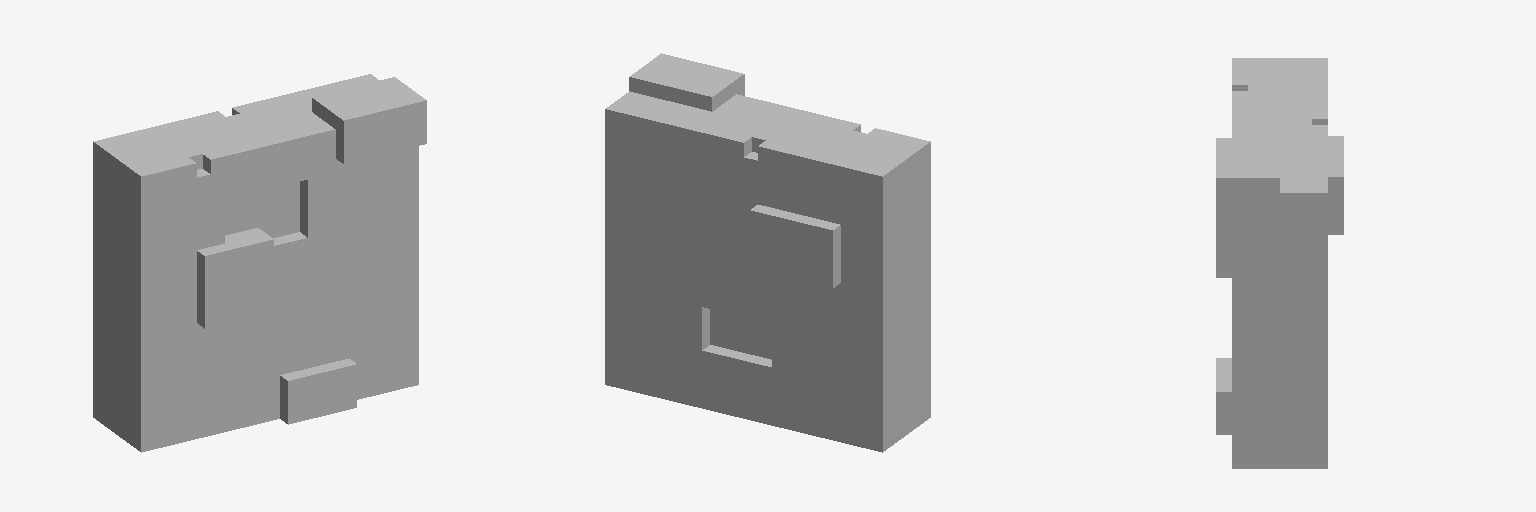
File: Stone Fence.obj
3 renders of one model, left to right at view 1: azimuth 30°, elevation 25°; view 2: azimuth 150°, elevation 25°; view 3: azimuth 270°, elevation 25°, orthographic.
Parts seen in each view (by area): view 1: object 1; view 2: object 1; view 3: object 1.
Boxes of the visible parts, x1,y1,x2,y2 form: object 1: [93, 74, 426, 452]; object 1: [605, 53, 930, 452]; object 1: [1216, 58, 1343, 468].
Size of the model in its own units: 2 by 2 by 0.8.